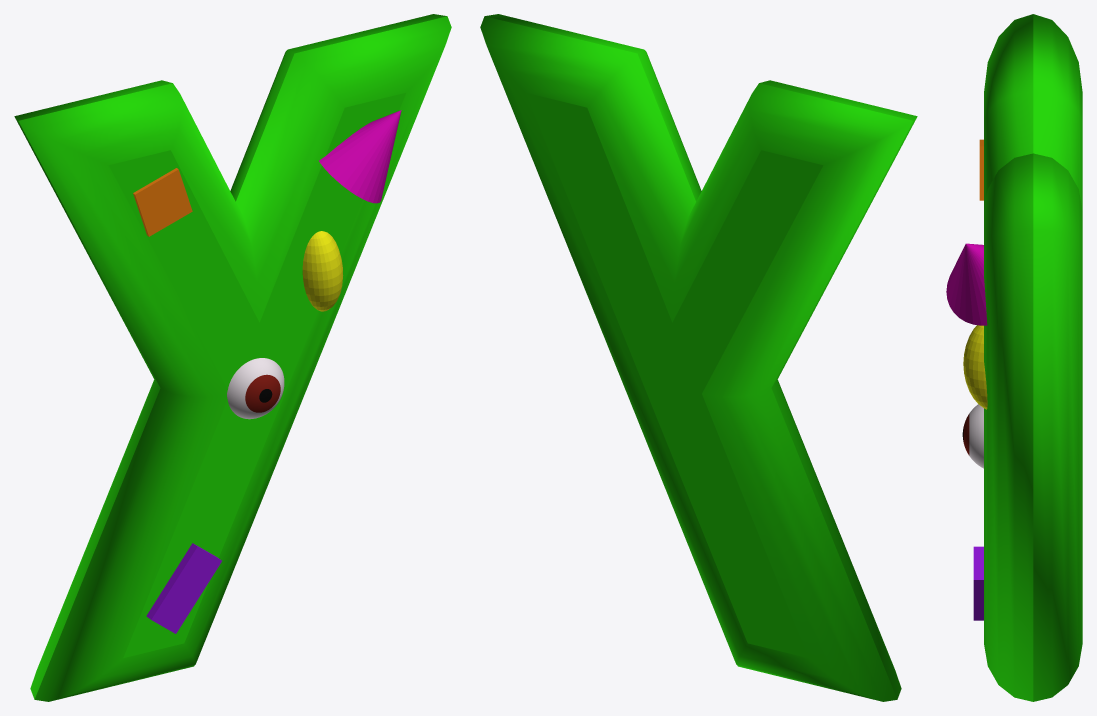
File: y_green.fbx
The picture shows the model from 3 angles, left to right: view 1: azimuth 30°, elevation 25°; view 2: azimuth 150°, elevation 25°; view 3: azimuth 270°, elevation 25°; orthographic projection. The views are drawn at different scales.
Visible parts, largest first — view 1: Text, Cone, Cube.001, Sphere, Sphere.002, Cube; view 2: Text; view 3: Text, Cone, Sphere.002, Sphere, Cube.001, Cube.
Part boxes in pixels (left/top/right/bottom): Text: left=14, top=14, right=451, bottom=701; Cone: left=319, top=110, right=401, bottom=203; Cube.001: left=146, top=543, right=221, bottom=633; Sphere: left=227, top=358, right=284, bottom=419; Sphere.002: left=302, top=231, right=343, bottom=311; Cube: left=133, top=168, right=192, bottom=236; Text: left=480, top=14, right=917, bottom=701; Text: left=984, top=14, right=1082, bottom=701; Cone: left=946, top=243, right=987, bottom=325; Sphere.002: left=963, top=325, right=987, bottom=409; Sphere: left=962, top=404, right=983, bottom=468; Cube.001: left=973, top=546, right=983, bottom=620; Cube: left=979, top=139, right=983, bottom=200.
Bounding box in the file's own units: 60.34 × 78.3 × 16.03.
